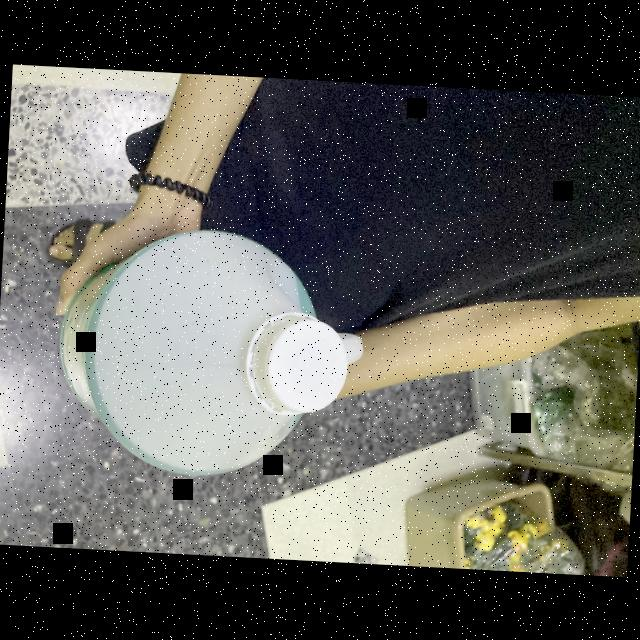chemical_plastic_gallon: (54, 221, 372, 488)
